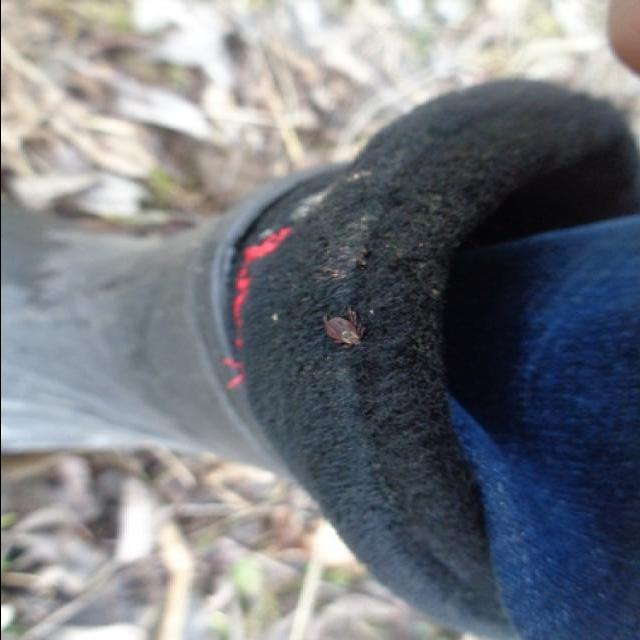Dermacentor Reticulatus-F: (324, 311, 364, 346)
